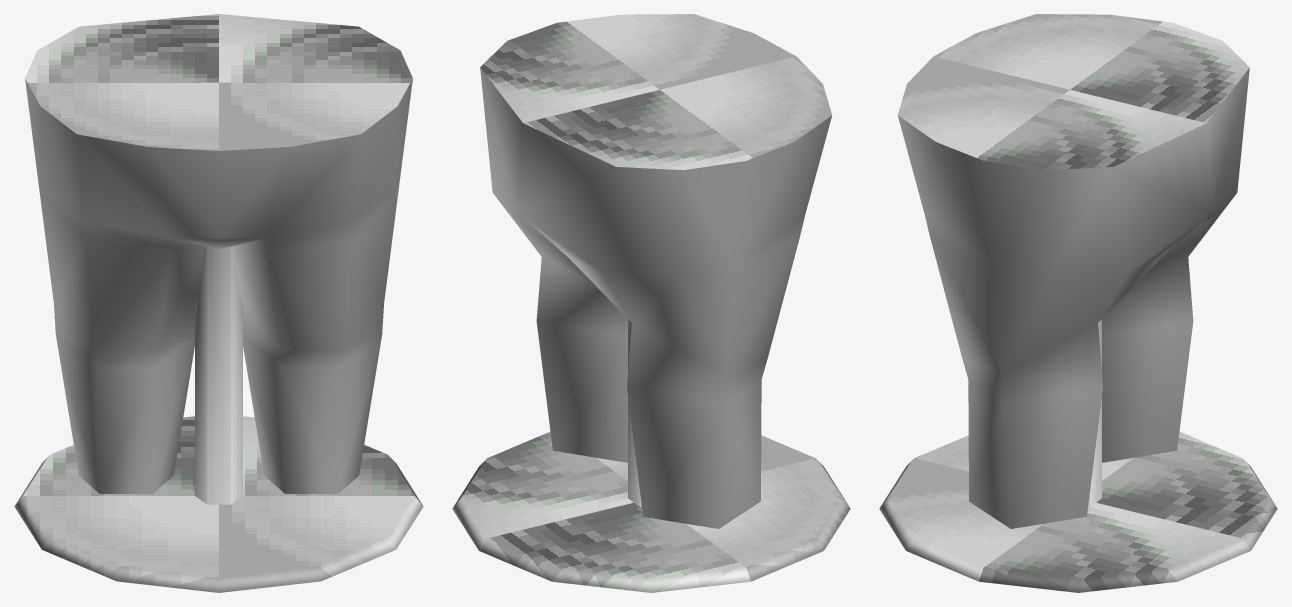
The model's file is mq_btms_pntL_grc.dae.
3 renders of one model, left to right at view 1: azimuth 30°, elevation 25°; view 2: azimuth 150°, elevation 25°; view 3: azimuth 270°, elevation 25°, orthographic. The views are drawn at different scales.
Parts seen in each view (by area): view 1: mq_btms_pntL_grc; view 2: mq_btms_pntL_grc; view 3: mq_btms_pntL_grc.
Boxes of the visible parts, left/top/right/bottom form: mq_btms_pntL_grc: left=14, top=14, right=423, bottom=592; mq_btms_pntL_grc: left=452, top=14, right=850, bottom=592; mq_btms_pntL_grc: left=879, top=14, right=1277, bottom=592.
Bounding box in the file's own units: 17 × 19.63 × 17.
2 materials, 2 textured.
